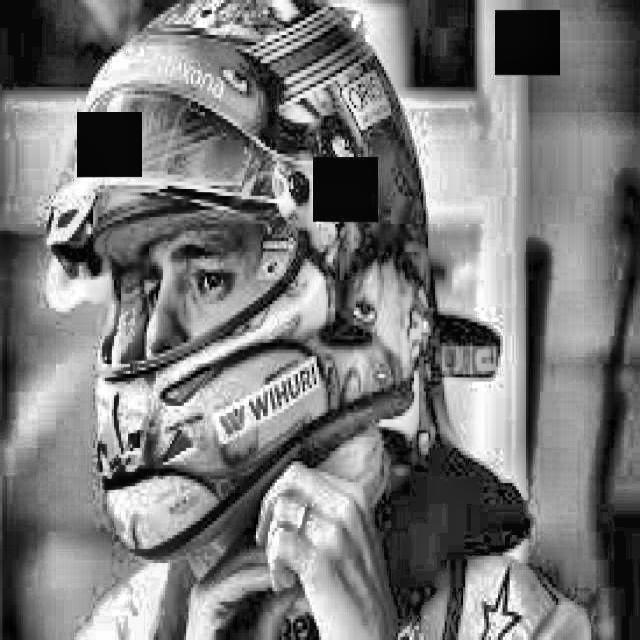Helmet: (47, 0, 451, 565)
